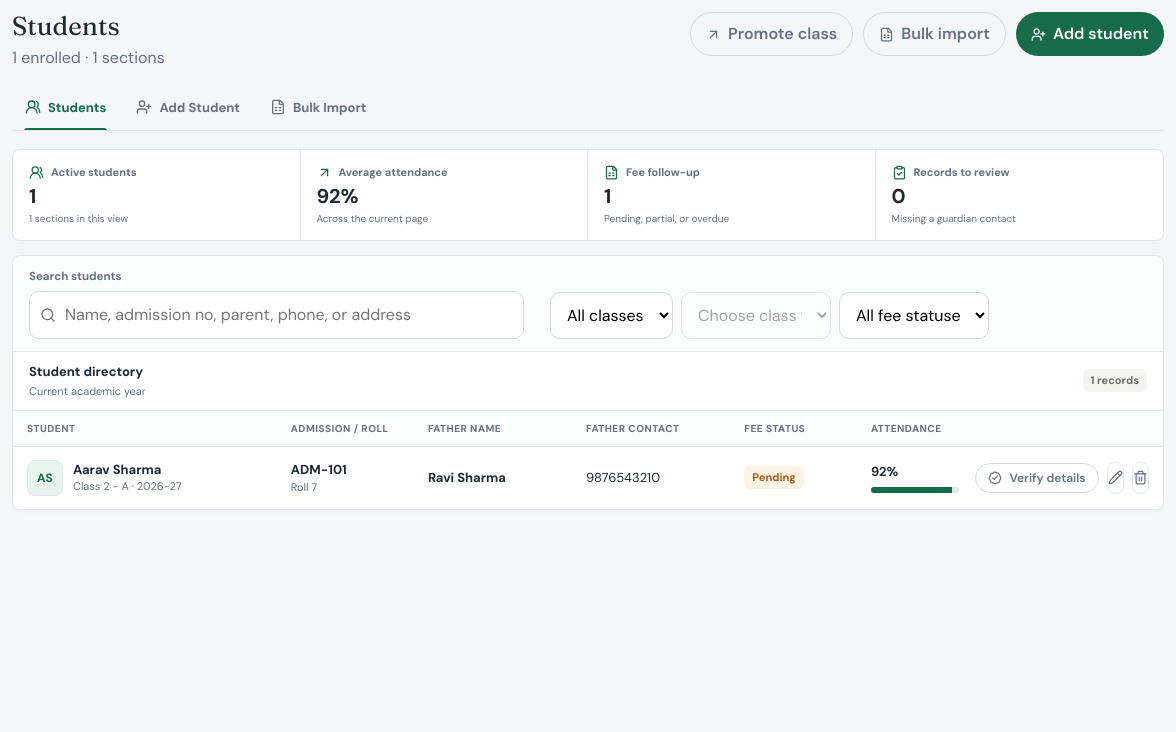
Test: StudentsPanel › shows sections only after a class is selected
Check: the text "Aarav Sharma" is shown, box [73, 461, 161, 478]
Check: the dropdown named "Filter by section" is disabled, box [681, 292, 831, 339]
Select "Class 2" in the dropdown named "Filter by class" at (612, 315), box [550, 292, 673, 339]
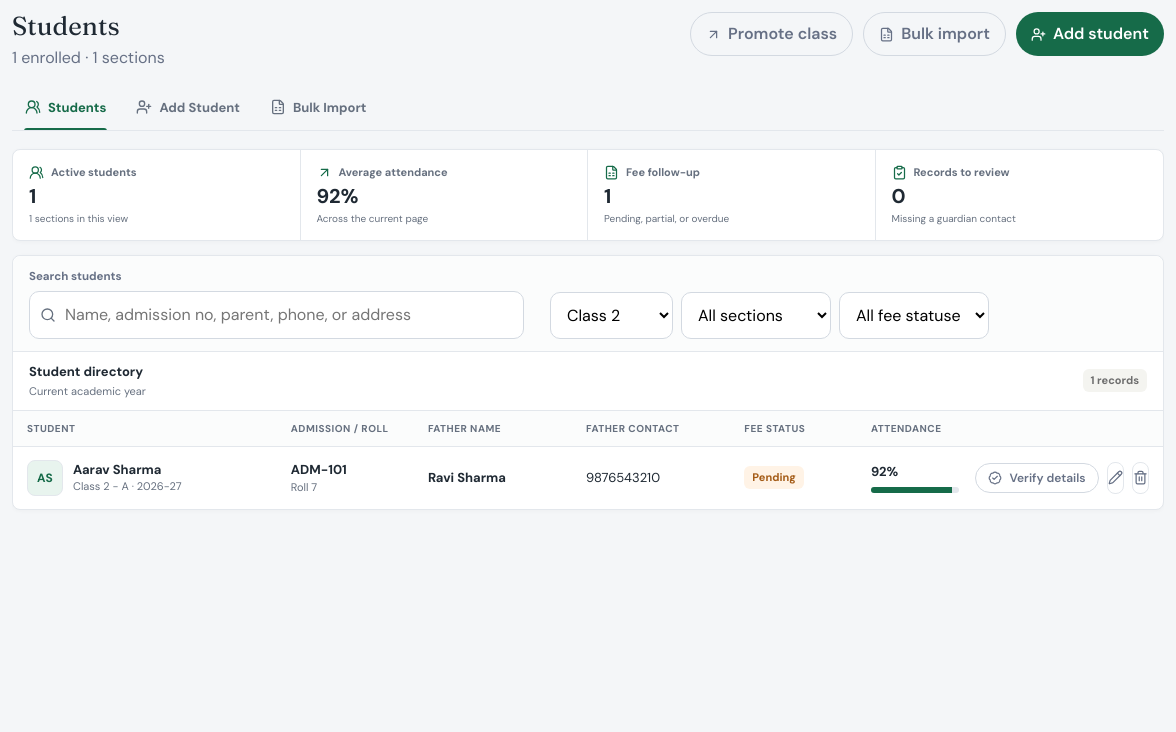
Check: the dropdown named "Filter by section" is enabled, box [681, 292, 831, 339]
